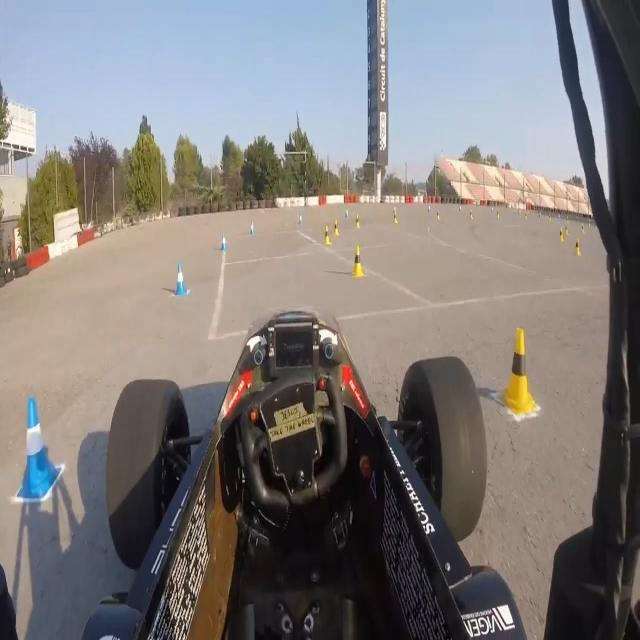blue_cone: (17, 395, 62, 498), (175, 263, 189, 298), (220, 233, 228, 250), (249, 220, 255, 236)
yellow_cone: (499, 326, 537, 413), (352, 245, 365, 279), (324, 225, 331, 247), (574, 238, 581, 257), (333, 220, 340, 238), (354, 214, 360, 230)
